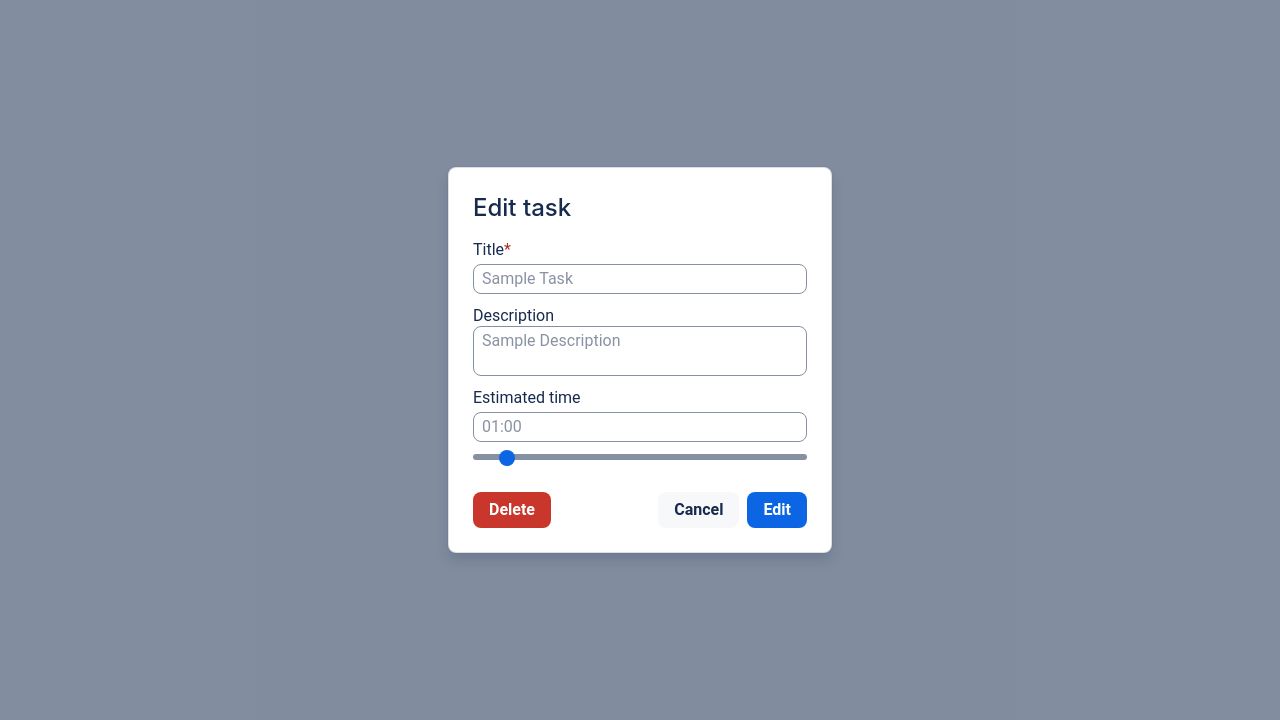
Test: EditTaskModal Component › cancels the form and resets state
Replace the text in the field with placeholder "Enter task title" with "Updated Task" at {"x": 640, "y": 279}, box [482,269,798,289]
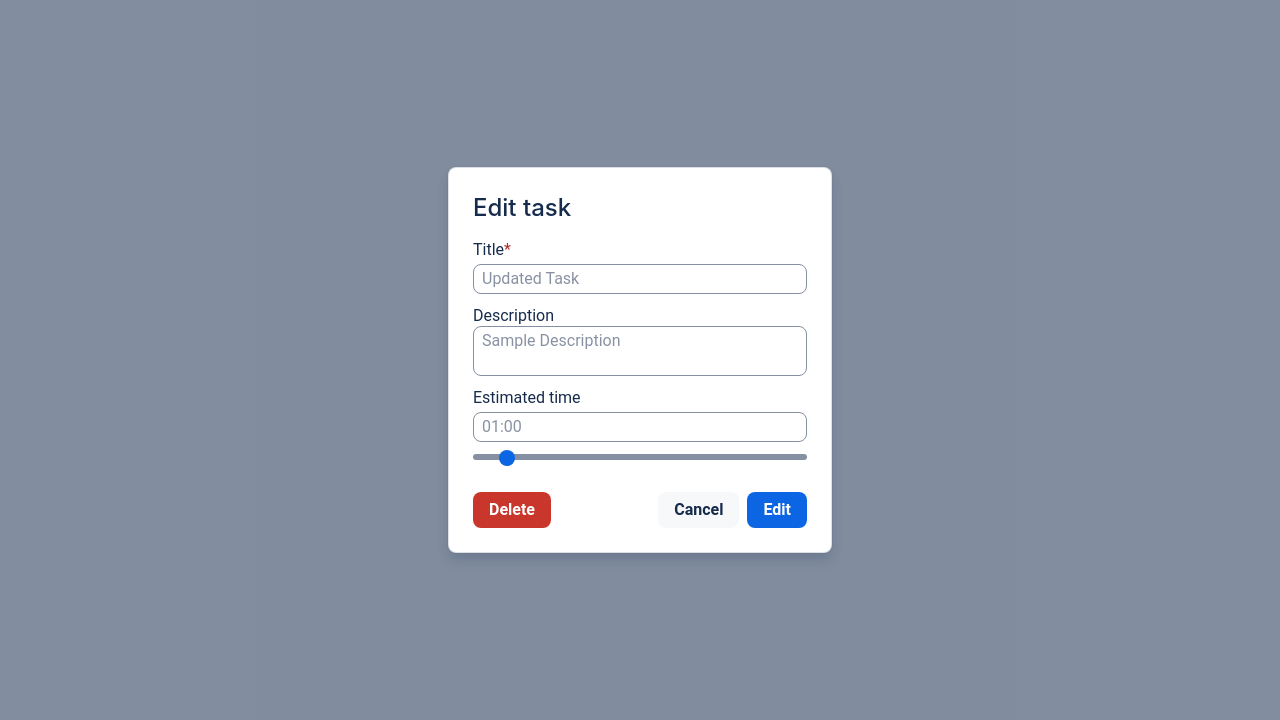
Click the button "Cancel".
click(699, 510)  # box [658,492,740,528]
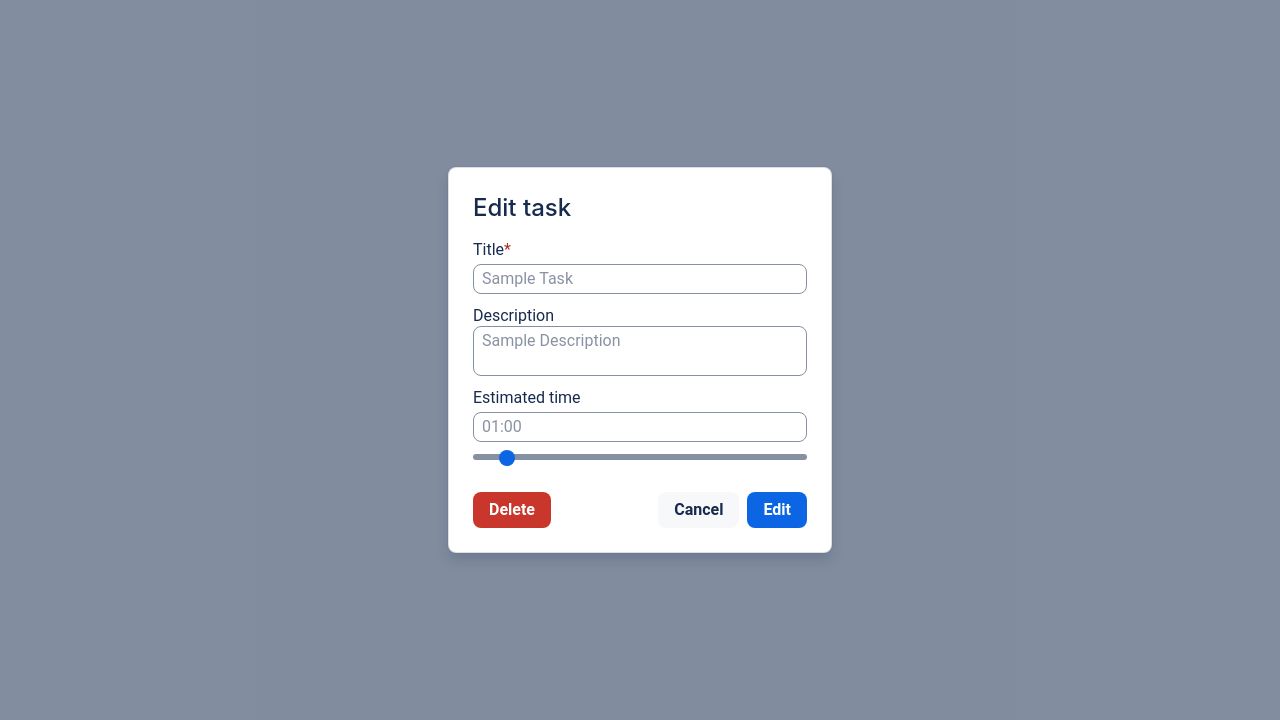
Check: the field with placeholder "Enter task title" holds "Sample Task", box [482,269,798,289]
